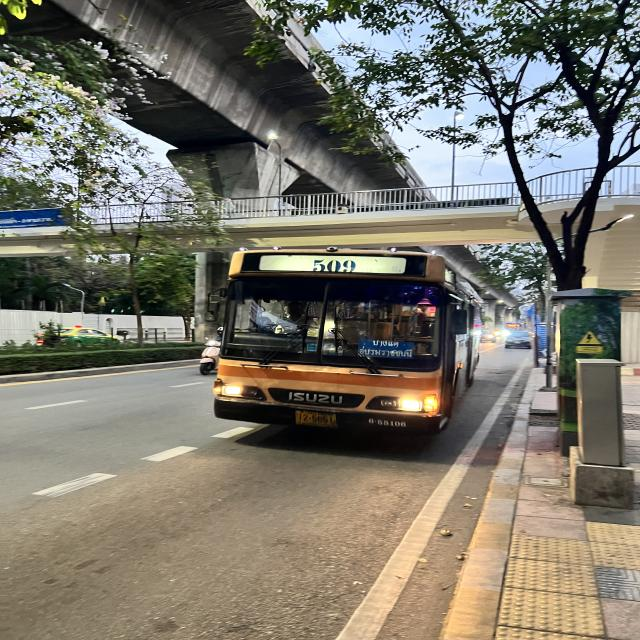BMTA-bus: (213, 247, 481, 436)
Bus-Line-Number: (308, 257, 360, 275)
Destination-Sign-Normal: (358, 338, 418, 362)
